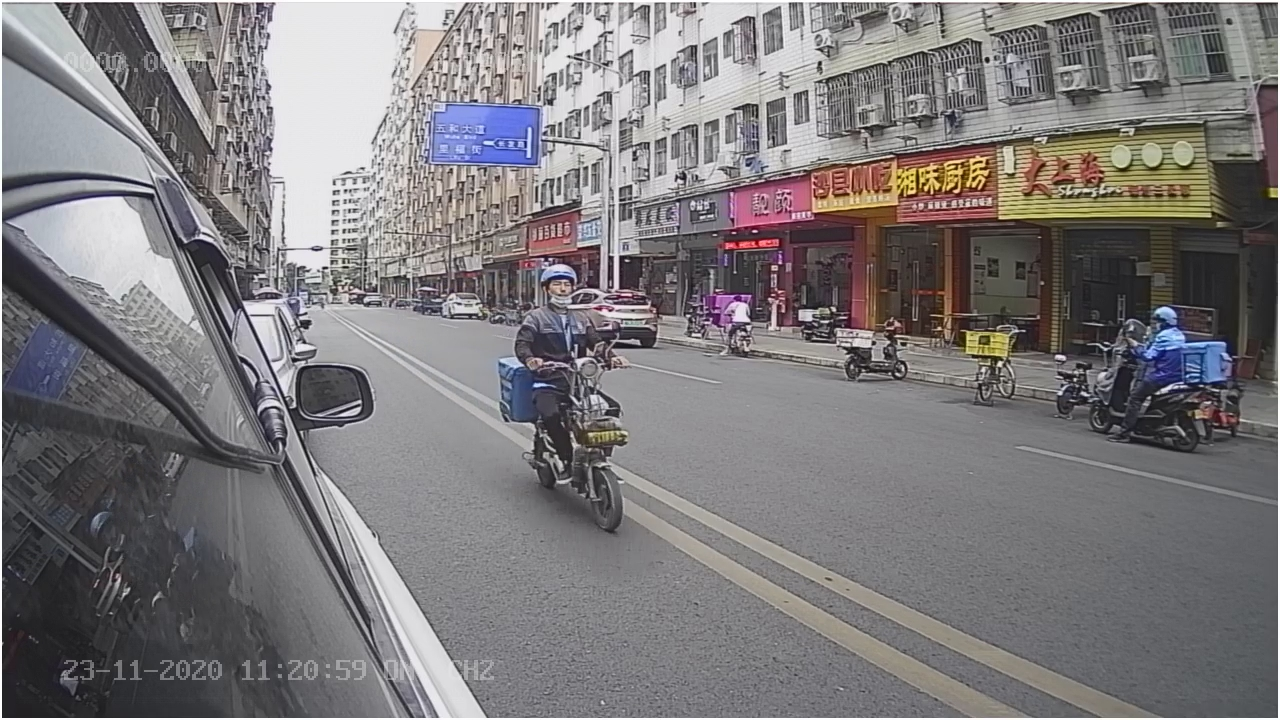person: (509, 267, 618, 354)
